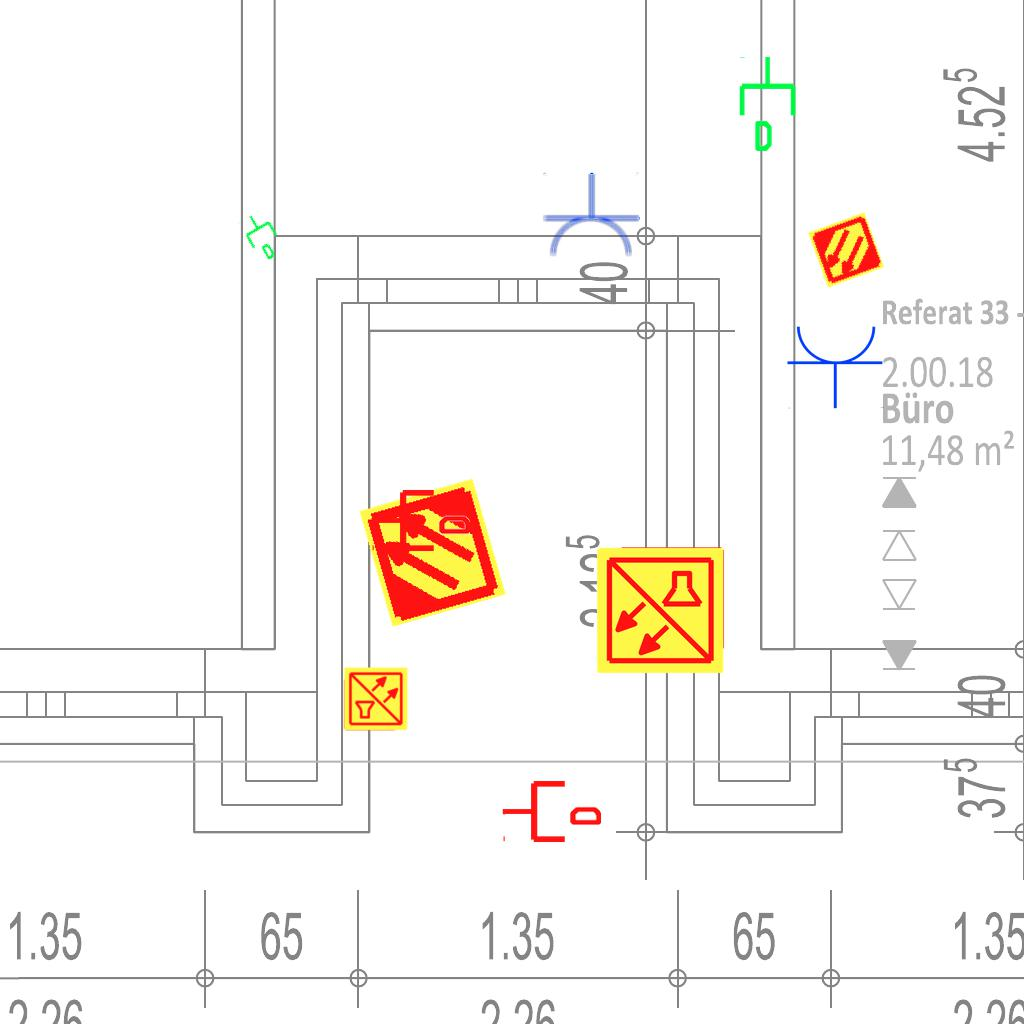ASR_Ansaugrauchmelder: (355, 475, 510, 630), (806, 210, 886, 290)
Datenanschluss_einfach: (501, 777, 601, 846), (735, 54, 804, 154), (370, 486, 470, 555), (235, 205, 291, 267)
OKW_Multisensormelder_(Kombination_optischer_Rauch-Kahlenmonoxid_Waerme-Melder): (594, 544, 726, 676), (343, 666, 409, 732)
Schukosteckdose_einfach: (786, 322, 886, 409), (541, 172, 641, 259)
